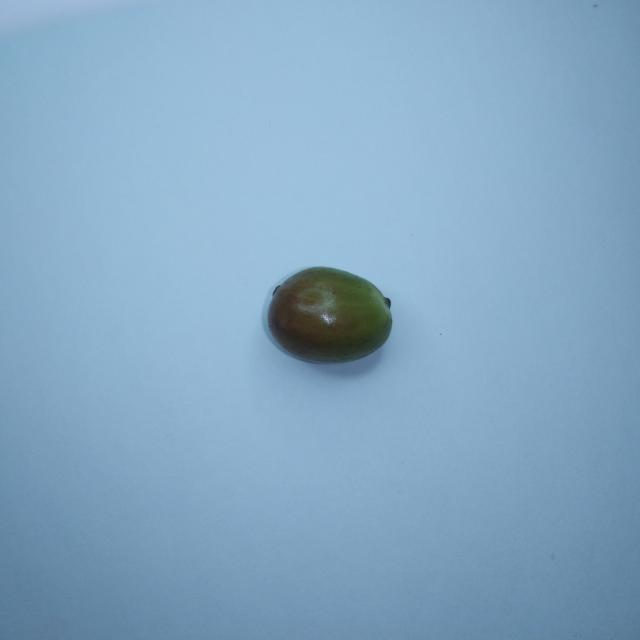Sano: (267, 267, 391, 362)
